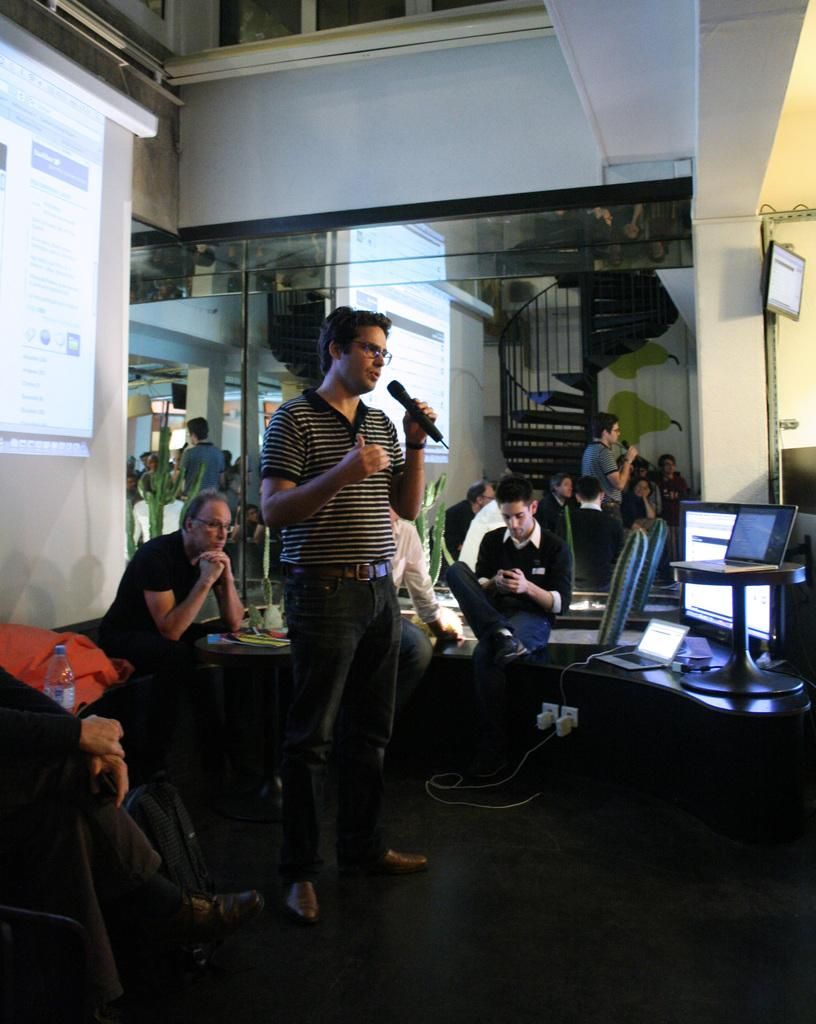Computer-monitor: (670, 490, 812, 639)
